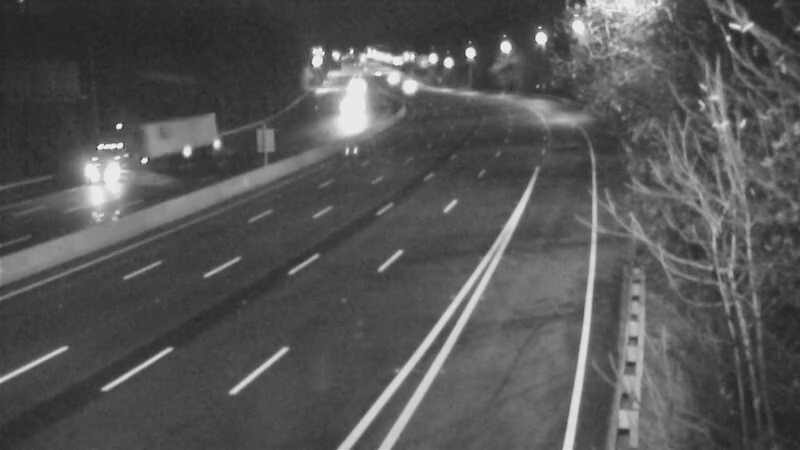vehicle: (106, 114, 186, 194), (382, 59, 432, 109), (364, 50, 414, 100), (326, 95, 376, 145)
